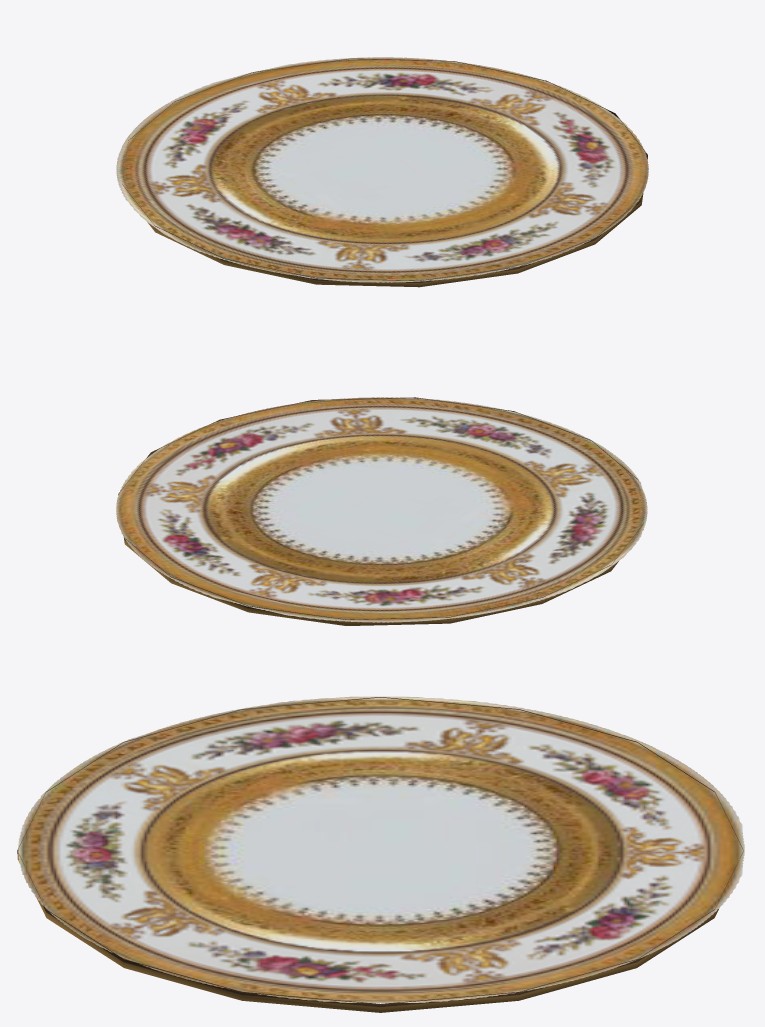
The model's file is Saucer.fbx.
The picture shows the model from 3 angles, top to bottom: view 1: azimuth 30°, elevation 25°; view 2: azimuth 150°, elevation 25°; view 3: azimuth 270°, elevation 25°; orthographic projection. The views are drawn at different scales.
Parts seen in each view (by area): view 1: Saucer_LOD0; view 2: Saucer_LOD0; view 3: Saucer_LOD0.
Part boxes in pixels (bbox=[...]): Saucer_LOD0: bbox=[116, 57, 648, 287]; Saucer_LOD0: bbox=[116, 397, 647, 625]; Saucer_LOD0: bbox=[17, 696, 744, 1012].
Size of what is drawn, in the model's own units: 53.83 by 3.99 by 53.83.
